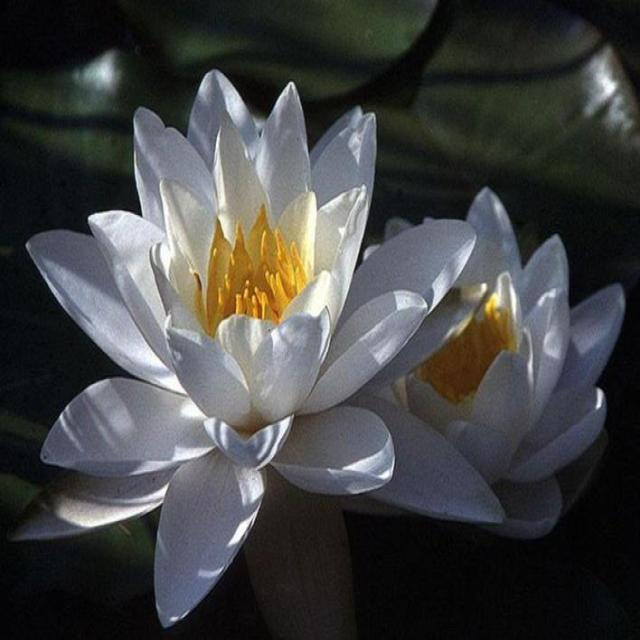rose: (16, 29, 640, 624)
